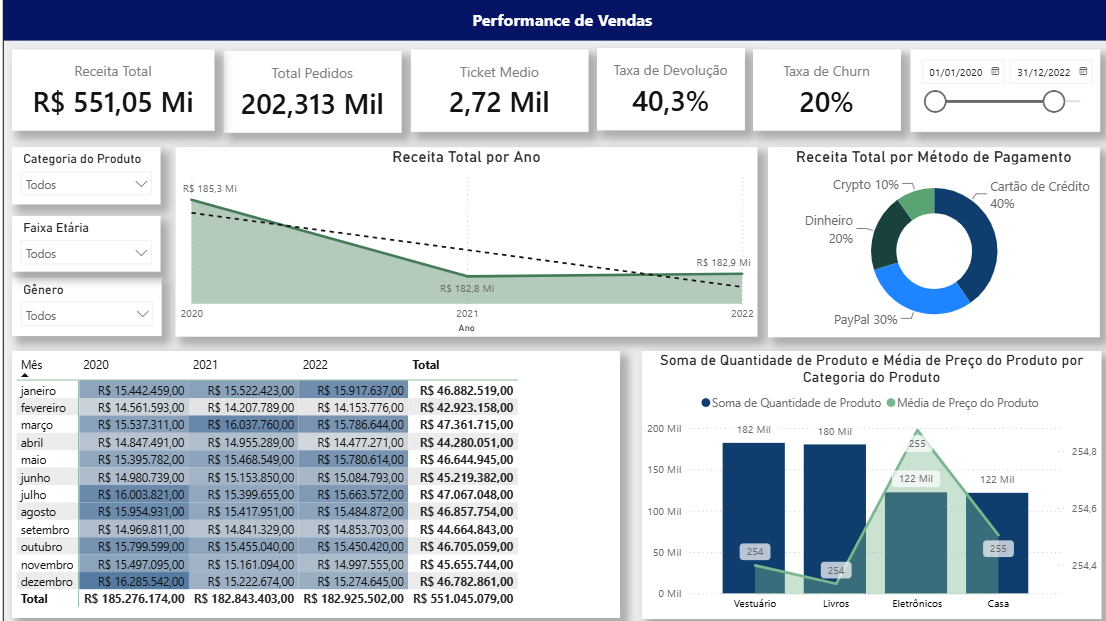

Layout of this report page (visuals, bound fields, positions):
{"tool":"powerbi","page":{"name":"Performace de Venda","canvas":[1280,720],"ordinal":0},"visuals":[{"type":"shape","box":[0,0,1280.2,720.9],"z":0},{"type":"cardVisual","fields":{"Data":["01 - medidas.Total Pedidos"]},"box":[253.2,58.1,204.7,94.2],"z":1000,"group":"g1"},{"type":"slicer","fields":{"Values":["02 - Base Tratada.Categoria do Produto"]},"box":[10.1,168.9,170.6,65.9],"z":1000},{"type":"cardVisual","fields":{"Data":["01 - medidas.Receita Total"]},"box":[10.5,57,232.6,93],"z":2000,"group":"g1"},{"type":"slicer","fields":{"Values":["02 - Base Tratada.Gênero"]},"box":[10.1,319.2,172.2,67.5],"z":2000},{"type":"textbox","title":" Performance de Vendas e Comportamento do Cliente","box":[0,0,1280,46.7],"z":3000,"group":"g1"},{"type":"slicer","fields":{"Values":["02 - Base Tratada.Faixa Etária"]},"box":[10.1,248.2,170.6,64.2],"z":3000},{"type":"areaChart","fields":{"Y":["01 - Medida.Receita Total"],"Category":["02 - Base Tratada.Data da Compra.Variation.Hierarquia de datas.Ano","02 - Base Tratada.Data da Compra.Variation.Hierarquia de datas.Trimestre","02 - Base Tratada.Data da Compra.Variation.Hierarquia de datas.Mês"]},"box":[197.6,168.9,668.7,217.8],"z":4000},{"type":"donutChart","fields":{"Category":["02 - Base Tratada.Método de Pagamento"],"Y":["01 - Medida.Receita Total"]},"box":[878.9,168.6,381.3,218.6],"z":5000},{"type":"pivotTable","fields":{"Rows":["02 - Base Tratada.Data da Compra.Variation.Hierarquia de datas.Mês"],"Columns":["02 - Base Tratada.Data da Compra.Variation.Hierarquia de datas.Ano"],"Values":["01 - Medida.Receita Total"]},"box":[10.5,403.5,698.8,307],"z":6000},{"type":"cardVisual","fields":{"Data":["01 - medidas.Ticket Medio"]},"box":[468,56.6,203.9,94.9],"z":7000,"group":"g1"},{"type":"lineClusteredColumnComboChart","fields":{"Category":["02 - Base Tratada.Categoria do Produto"],"Y":["Sum(02 - Base Tratada.Quantidade de Produto)"],"Y2":["Avg(02 - Base Tratada.Preço do Produto)"]},"box":[734.9,403.5,527.9,308.1],"z":7000},{"type":"group","id":"g1","title":"Grupo 1","box":[0,0,1280,152.3],"z":8000},{"type":"cardVisual","fields":{"Data":["01 - Medida.Taxa de Devolução"]},"box":[682,55.2,169.9,94.9],"z":8000,"group":"g1"},{"type":"cardVisual","fields":{"Data":["01 - Medida.Taxa de Churn"]},"box":[862.1,56.6,169.9,93.5],"z":9000,"group":"g1"},{"type":"slicer","title":"Ano","fields":{"Values":["02 - Base Tratada.Data da Compra"]},"box":[1042.1,56.6,218.1,94.9],"z":11000,"group":"g1"}]}

Visuals, with their boxes in screenshot pixels (x1, y1, x2, y2), scaled from the page's 1280x720 canvas onto the 1106x621 screenshot:
shape: locate(0, 0, 1105, 620)
cardVisual - 01 - medidas.Total Pedidos: locate(219, 50, 396, 131)
slicer - 02 - Base Tratada.Categoria do Produto: locate(9, 146, 156, 203)
cardVisual - 01 - medidas.Receita Total: locate(9, 49, 210, 129)
slicer - 02 - Base Tratada.Gênero: locate(9, 275, 158, 334)
" Performance de Vendas e Comportamento do Cliente" textbox: locate(0, 0, 1105, 40)
slicer - 02 - Base Tratada.Faixa Etária: locate(9, 214, 156, 269)
areaChart - 01 - Medida.Receita Total x 02 - Base Tratada.Data da Compra.Variation.Hierarquia de datas.Ano: locate(171, 146, 749, 334)
donutChart - 02 - Base Tratada.Método de Pagamento x 01 - Medida.Receita Total: locate(759, 145, 1089, 334)
pivotTable - 02 - Base Tratada.Data da Compra.Variation.Hierarquia de datas.Mês x 02 - Base Tratada.Data da Compra.Variation.Hierarquia de datas.Ano: locate(9, 348, 613, 613)
cardVisual - 01 - medidas.Ticket Medio: locate(404, 49, 581, 131)
lineClusteredColumnComboChart - 02 - Base Tratada.Categoria do Produto x Sum(02 - Base Tratada.Quantidade de Produto): locate(635, 348, 1091, 614)
"Grupo 1" group: locate(0, 0, 1105, 131)
cardVisual - 01 - Medida.Taxa de Devolução: locate(589, 48, 736, 129)
cardVisual - 01 - Medida.Taxa de Churn: locate(745, 49, 892, 129)
"Ano" slicer: locate(900, 49, 1089, 131)
